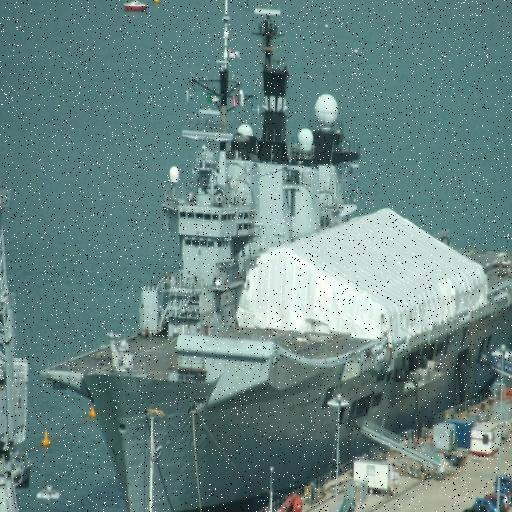Portanaves: (36, 1, 512, 512)
